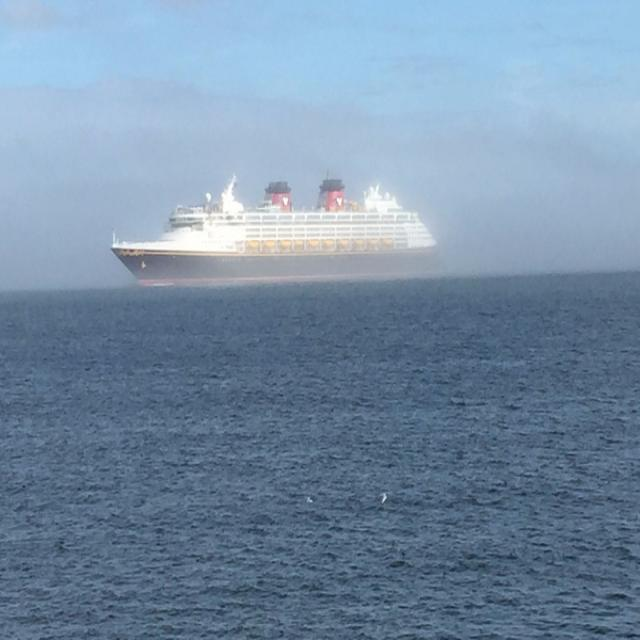passenger ship: (96, 163, 434, 280)
